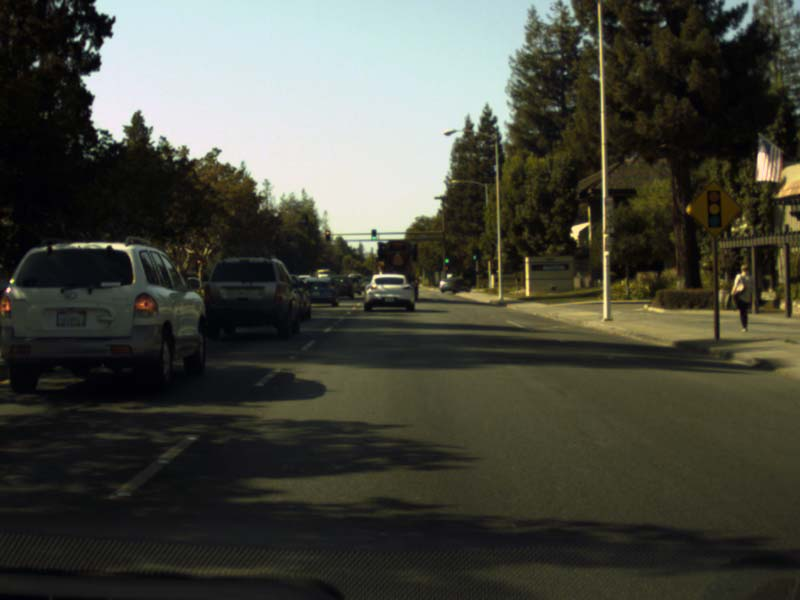Green: (371, 228, 376, 240), (444, 255, 450, 263), (472, 252, 477, 260)
Red: (325, 229, 329, 241), (444, 265, 449, 271)
